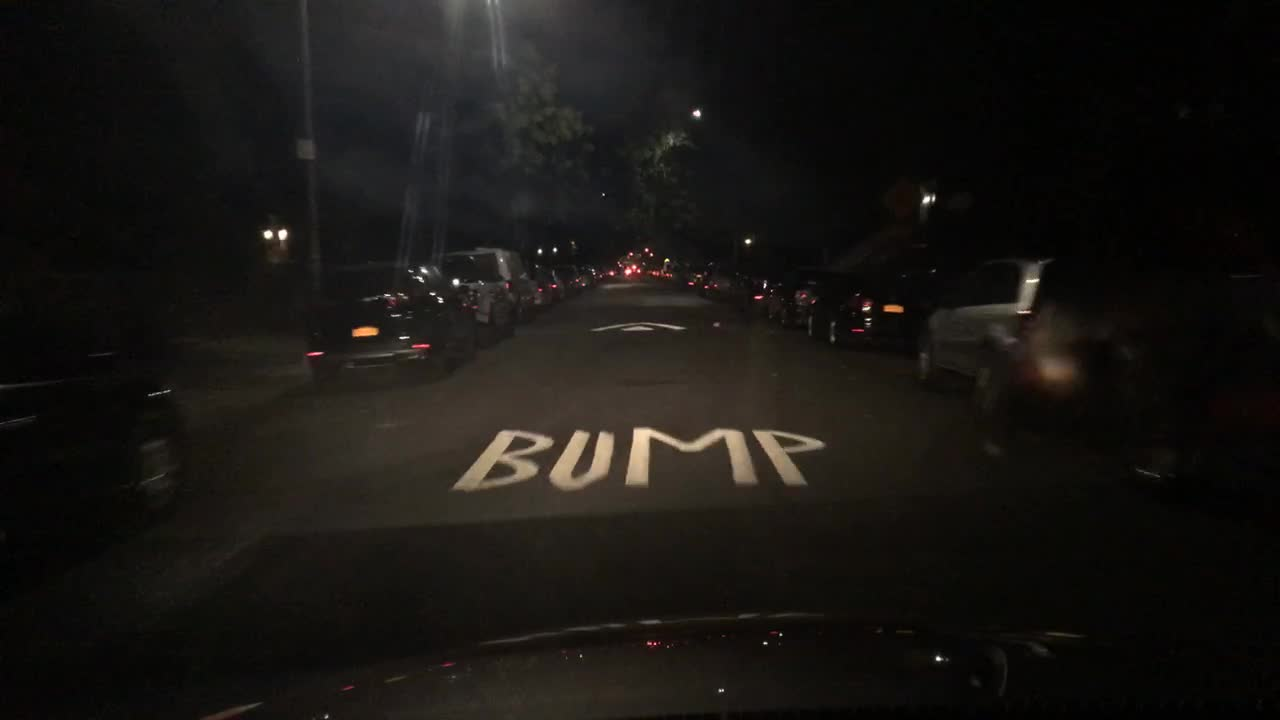car: (976, 265, 1277, 473), (1, 290, 190, 588), (303, 261, 473, 387), (911, 254, 1057, 393), (805, 263, 955, 352), (431, 250, 521, 345), (763, 263, 838, 333), (485, 249, 545, 316), (730, 269, 776, 313), (525, 260, 561, 310), (698, 261, 739, 298), (539, 260, 568, 300), (554, 263, 585, 290), (685, 266, 706, 289), (577, 266, 595, 286), (623, 264, 642, 276), (592, 266, 606, 282), (602, 265, 618, 278), (657, 267, 673, 279), (648, 265, 660, 278)
traffic sign: (291, 138, 314, 159)
